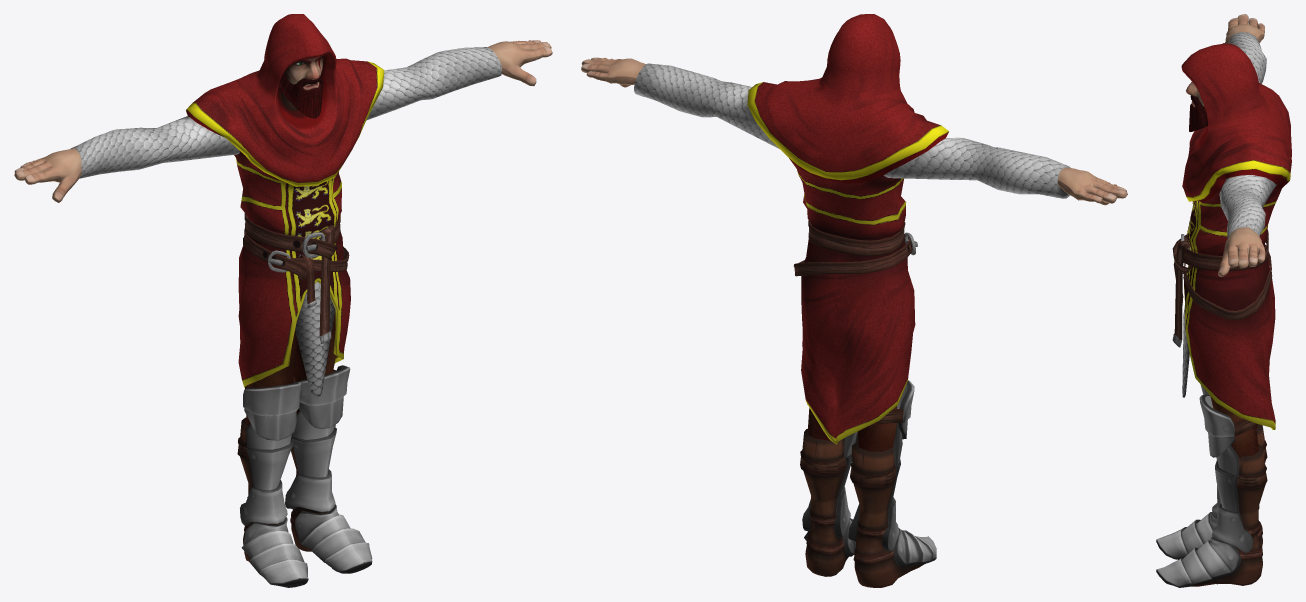
Rendered from Knight_D_Pelegrini.obj.
3 renders of one model, left to right at view 1: azimuth 30°, elevation 25°; view 2: azimuth 150°, elevation 25°; view 3: azimuth 270°, elevation 25°, orthographic. The views are drawn at different scales.
Visible parts, largest first — view 1: Body, Lower_Armor, Head_Hands; view 2: Body, Lower_Armor, Head_Hands; view 3: Body, Lower_Armor, Head_Hands.
Boxes of the visible parts, bbox=[...] form: Body: bbox=[70, 14, 501, 425]; Lower_Armor: bbox=[237, 365, 372, 587]; Head_Hands: bbox=[14, 40, 552, 202]; Body: bbox=[634, 14, 1070, 451]; Lower_Armor: bbox=[800, 380, 936, 587]; Head_Hands: bbox=[581, 57, 1127, 205]; Body: bbox=[1172, 32, 1291, 458]; Lower_Armor: bbox=[1156, 385, 1267, 587]; Head_Hands: bbox=[1186, 14, 1265, 276].
Size of the model in its own units: 212 by 207 by 48.56.
Materials: 1 (1 with a texture image).
